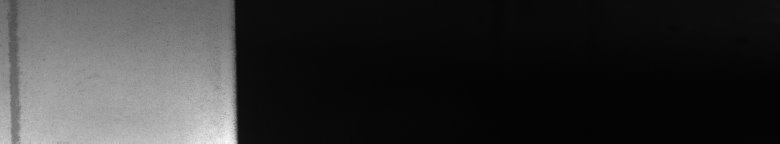hd: (4, 4, 25, 136)
